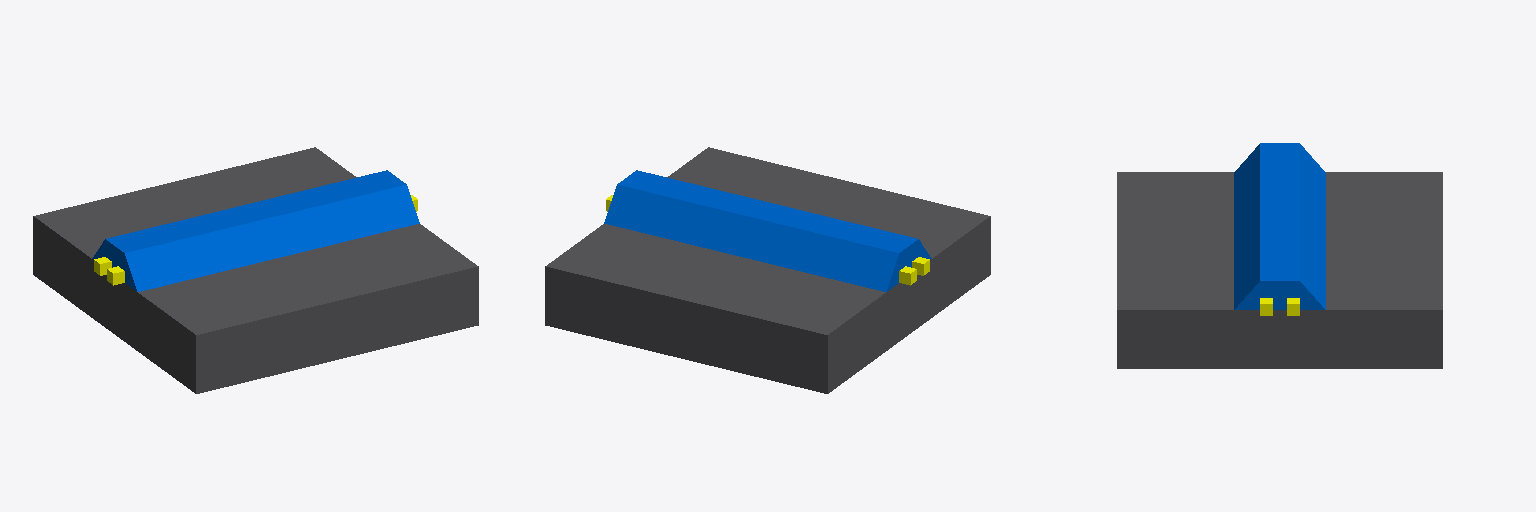
3 views of the same model, side by side, from view 1: azimuth 30°, elevation 25°; view 2: azimuth 150°, elevation 25°; view 3: azimuth 270°, elevation 25° (orthographic).
Visible parts, largest first — view 1: wire_straight; view 2: wire_straight; view 3: wire_straight.
Boxes of the visible parts, <box> form: wire_straight: <box>33,147,478,393</box>; wire_straight: <box>545,147,990,393</box>; wire_straight: <box>1117,143,1442,368</box>.
Size of the model in its own units: 5.4 by 1.5 by 5.